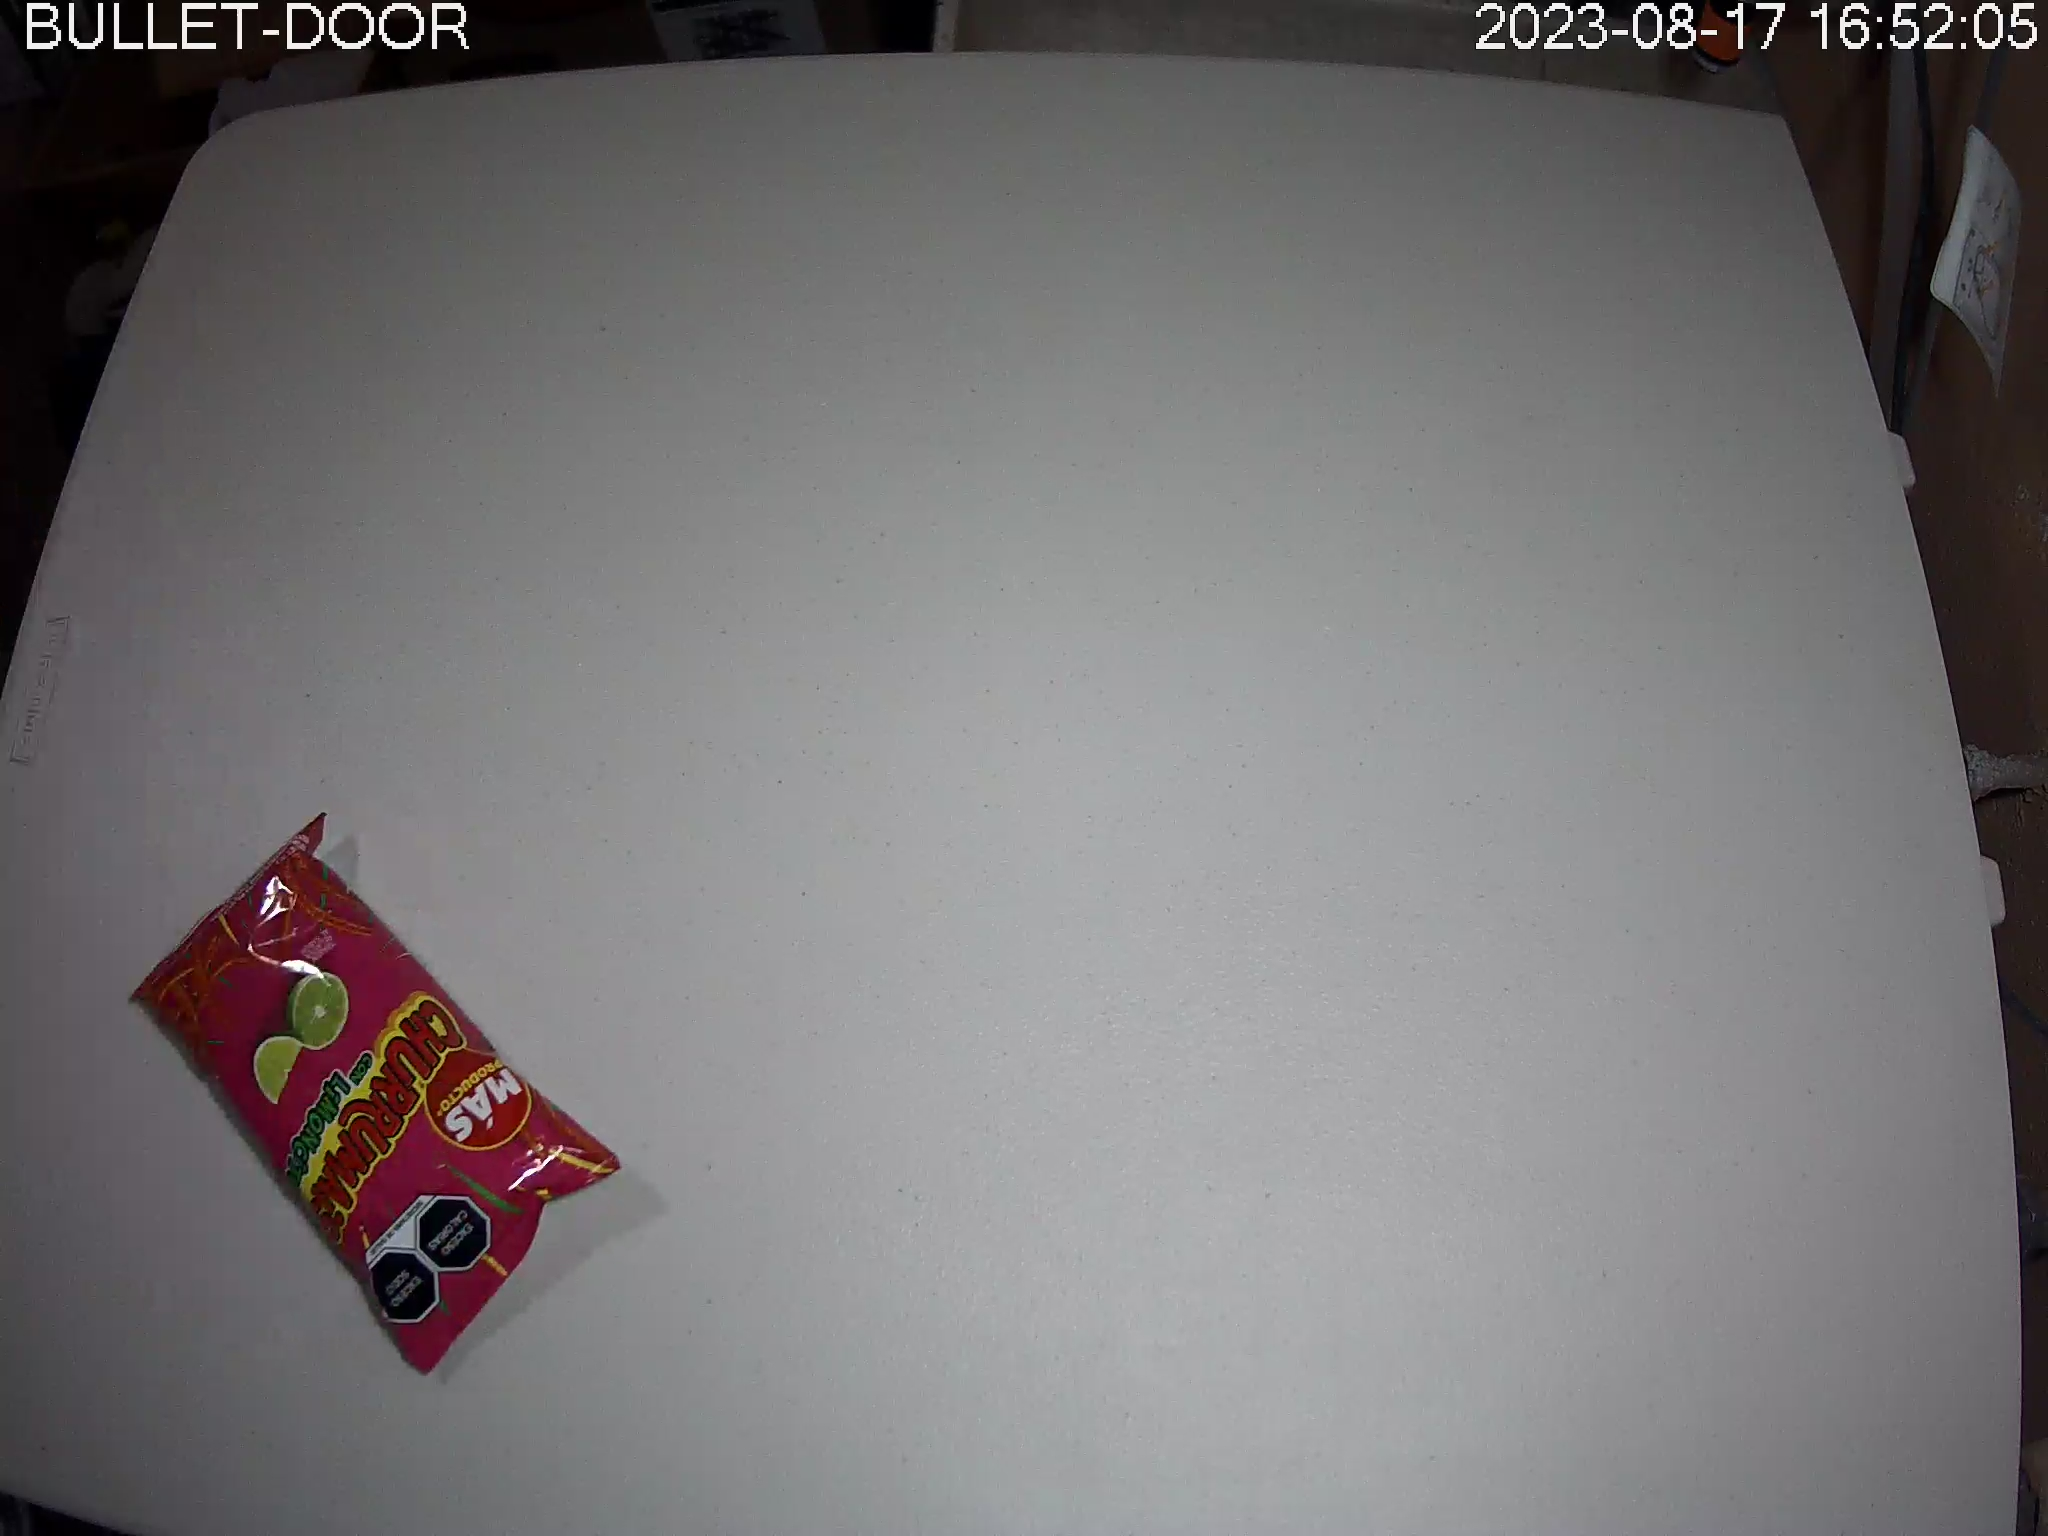Churrumais_70_F: (131, 810, 624, 1376)
